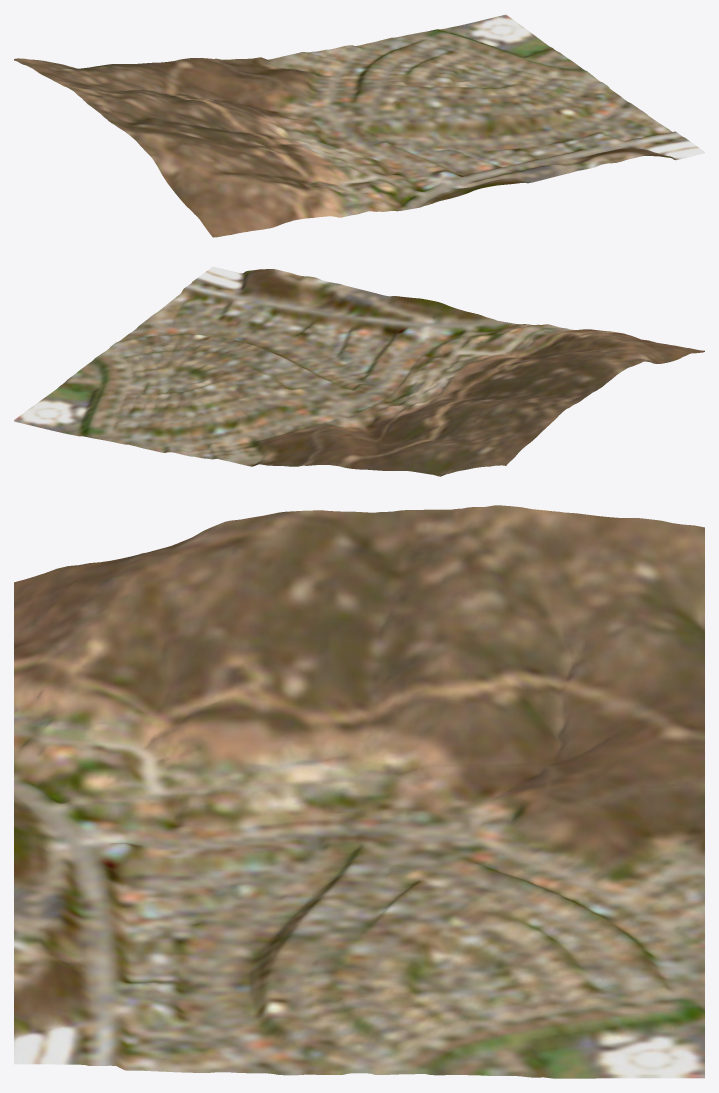
The model's file is terrain_r2_c6.glb.
3 renders of one model, top to bottom at view 1: azimuth 30°, elevation 25°; view 2: azimuth 150°, elevation 25°; view 3: azimuth 270°, elevation 25°, orthographic. The views are drawn at different scales.
Visible parts, largest first — view 1: terrain_r2_c6_lod0; view 2: terrain_r2_c6_lod0; view 3: terrain_r2_c6_lod0.
Part boxes in pixels (bbox=[...]): terrain_r2_c6_lod0: bbox=[14, 14, 704, 237]; terrain_r2_c6_lod0: bbox=[14, 266, 704, 476]; terrain_r2_c6_lod0: bbox=[14, 505, 704, 1078].
Size of the model in its own units: 1125 by 196 by 787.
1 material, 1 textured.
